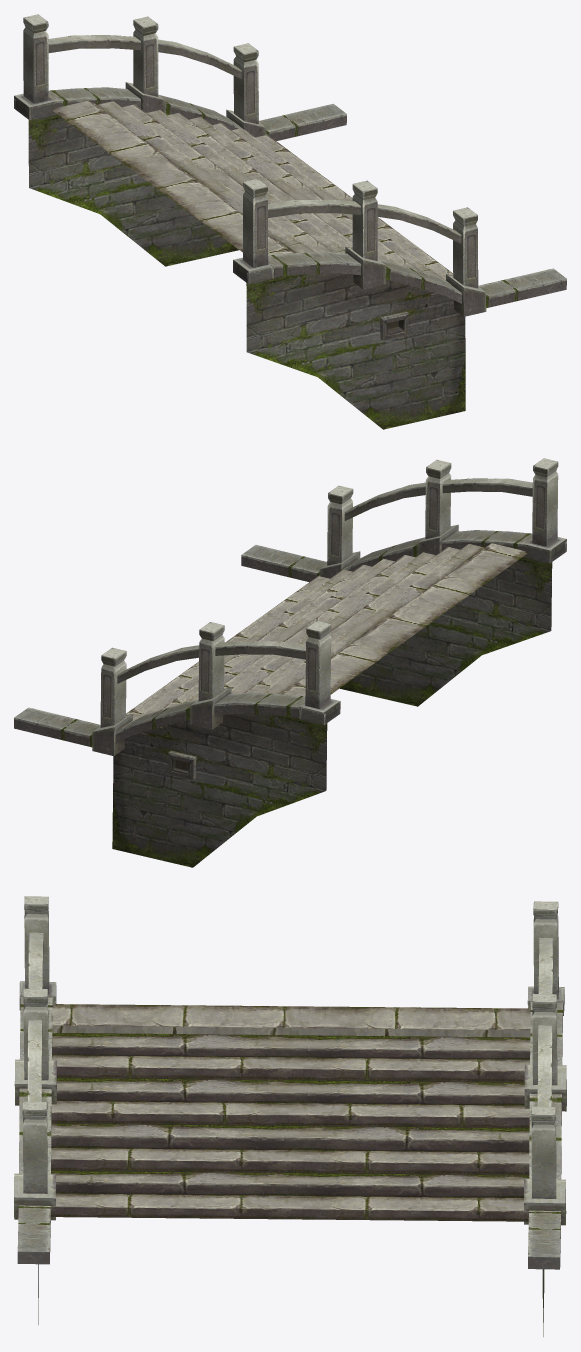
Rendered from xs__Item_louti_6.FBX.
The picture shows the model from 3 angles, top to bottom: view 1: azimuth 30°, elevation 25°; view 2: azimuth 150°, elevation 25°; view 3: azimuth 270°, elevation 25°; orthographic projection. The views are drawn at different scales.
Parts seen in each view (by area): view 1: xs__Item_louti_6; view 2: xs__Item_louti_6; view 3: xs__Item_louti_6.
Part boxes in pixels (x1,y1,x2,y2): xs__Item_louti_6: [14, 14, 566, 429]; xs__Item_louti_6: [14, 458, 566, 867]; xs__Item_louti_6: [14, 896, 566, 1336].
Size of the model in its own units: 971 by 805 by 1270.
